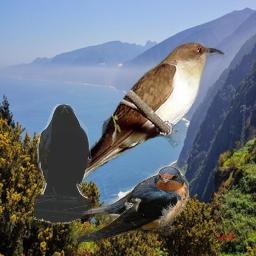Crow: (34, 104, 92, 224)
Cuckoo: (67, 40, 225, 192)
Swallow: (51, 165, 189, 242)
